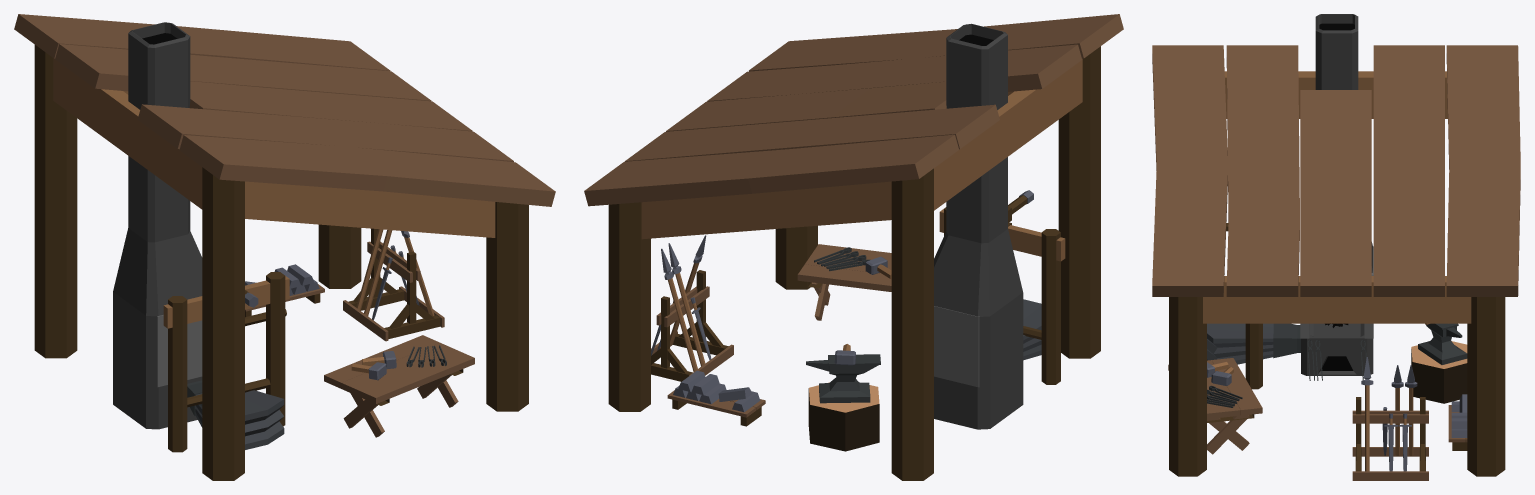
Rendered from House_6.fbx.
3 views of the same model, side by side, from view 1: azimuth 30°, elevation 25°; view 2: azimuth 150°, elevation 25°; view 3: azimuth 270°, elevation 25° (orthographic). The views are drawn at different scales.
Parts seen in each view (by area): view 1: blacksmith; view 2: blacksmith; view 3: blacksmith.
Part boxes in pixels (x1,y1,x2,y2): blacksmith: (14,14,555,480); blacksmith: (584,14,1123,480); blacksmith: (1152,14,1520,480).
Bounding box in the file's own units: 222 × 237 × 235.
